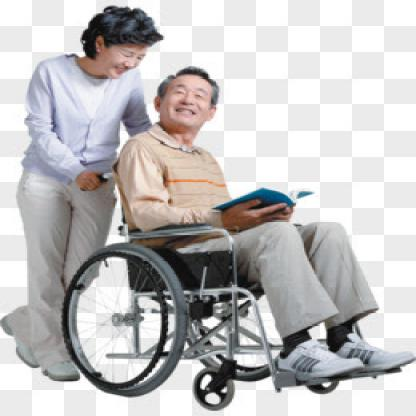wheelchair: (68, 63, 414, 414)
